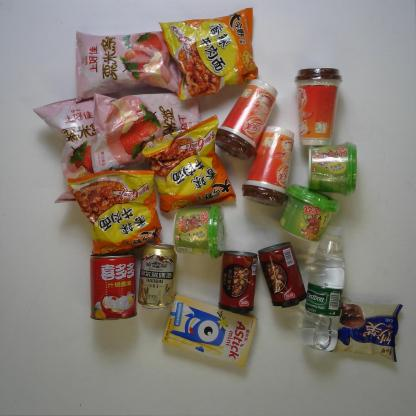Alcohol: (140, 241, 179, 311)
Canned Food: (258, 243, 308, 308), (89, 255, 137, 321), (218, 247, 259, 317)
Dessert: (165, 292, 258, 371), (333, 296, 405, 366)
Drink: (299, 221, 347, 352)
Instant Drink: (215, 77, 279, 160), (245, 124, 294, 209), (292, 68, 343, 148), (280, 180, 340, 242), (170, 204, 225, 262), (305, 142, 360, 198)
Instant Noodles: (140, 113, 238, 216), (158, 6, 260, 100), (70, 164, 163, 256)
Puffed Food: (88, 86, 210, 176), (32, 92, 125, 204), (71, 27, 188, 103)
